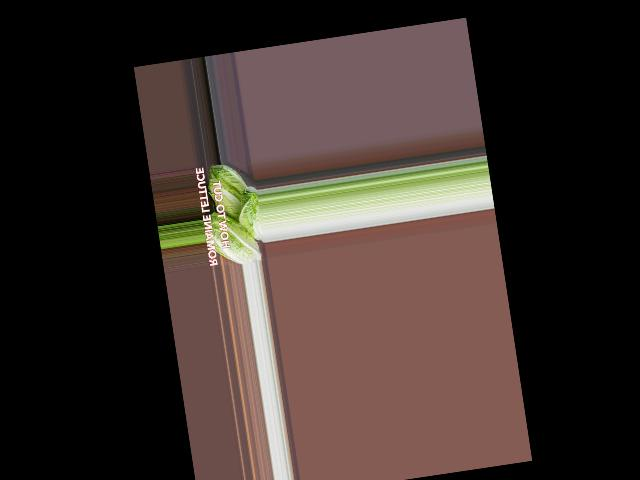lettuce: (200, 158, 256, 229)
